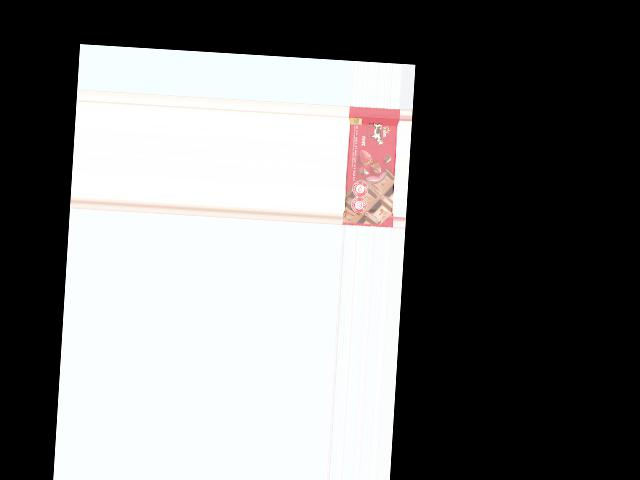chocolate: (342, 105, 399, 227)
